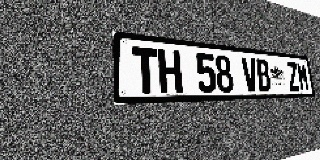5: (196, 53, 217, 93)
8: (214, 54, 234, 92)
B: (255, 59, 272, 92)
H: (158, 49, 183, 93)
M: (296, 63, 310, 91)
T: (132, 46, 159, 94)
V: (241, 57, 259, 92)
Z: (286, 62, 300, 91)
